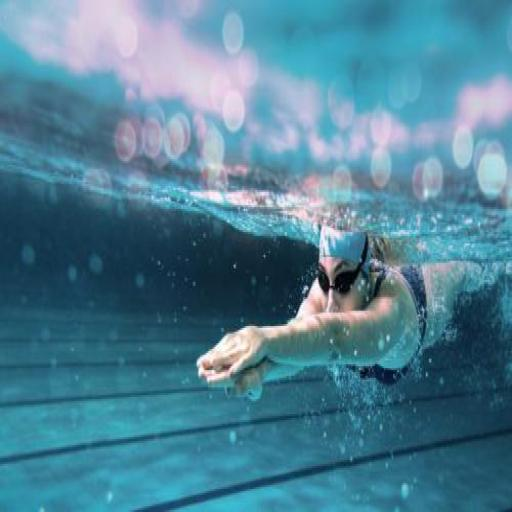swimming: (195, 218, 511, 404)
